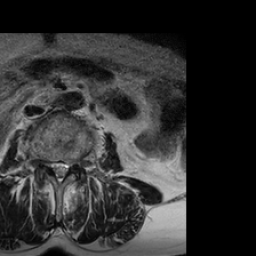CCS_normal: (55, 154, 62, 189)
LFS_stenosis: (69, 153, 77, 176)
LLS_normal: (62, 156, 69, 181)
RFS_severe_stenosis: (41, 153, 49, 174)
RLS_stenosis: (49, 156, 55, 178)
